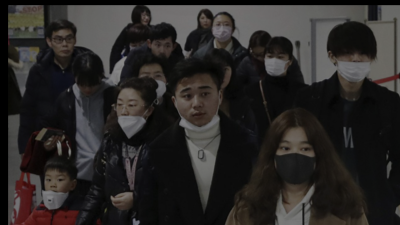mask_weared_incorrect: (177, 82, 221, 126), (117, 96, 147, 130), (44, 172, 71, 199)
with_mask: (271, 137, 318, 187), (335, 46, 373, 85), (138, 68, 169, 101), (264, 49, 290, 77), (212, 19, 233, 44)
without_mask: (50, 32, 77, 57), (150, 39, 174, 60), (76, 80, 101, 96), (251, 46, 268, 64), (199, 14, 213, 30), (140, 10, 152, 25)
